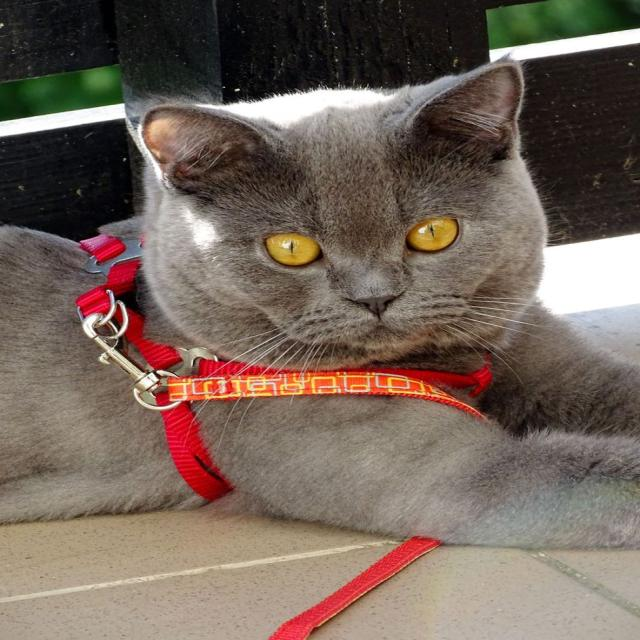british shorthair: (0, 59, 639, 548)
